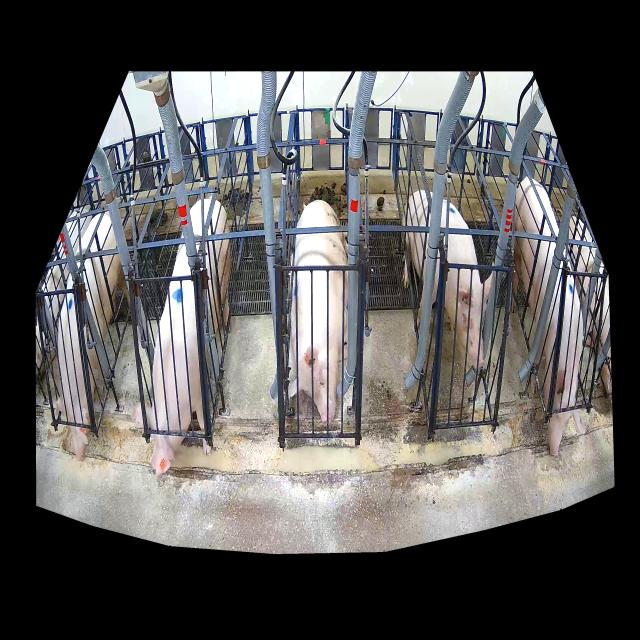pig: (132, 199, 230, 477), (513, 177, 585, 456), (55, 211, 130, 461), (402, 191, 493, 369), (289, 199, 348, 427)
